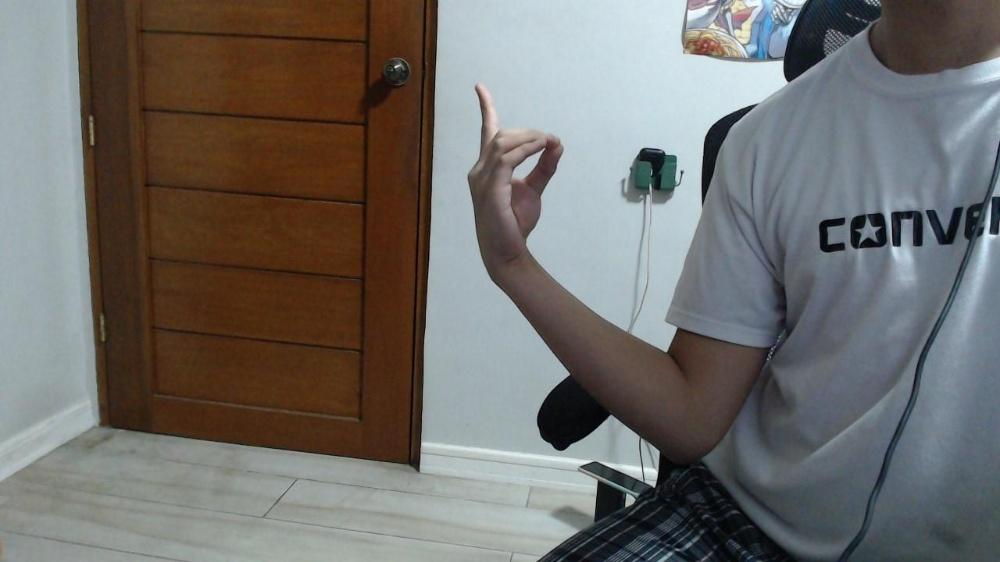d: (467, 81, 564, 261)
